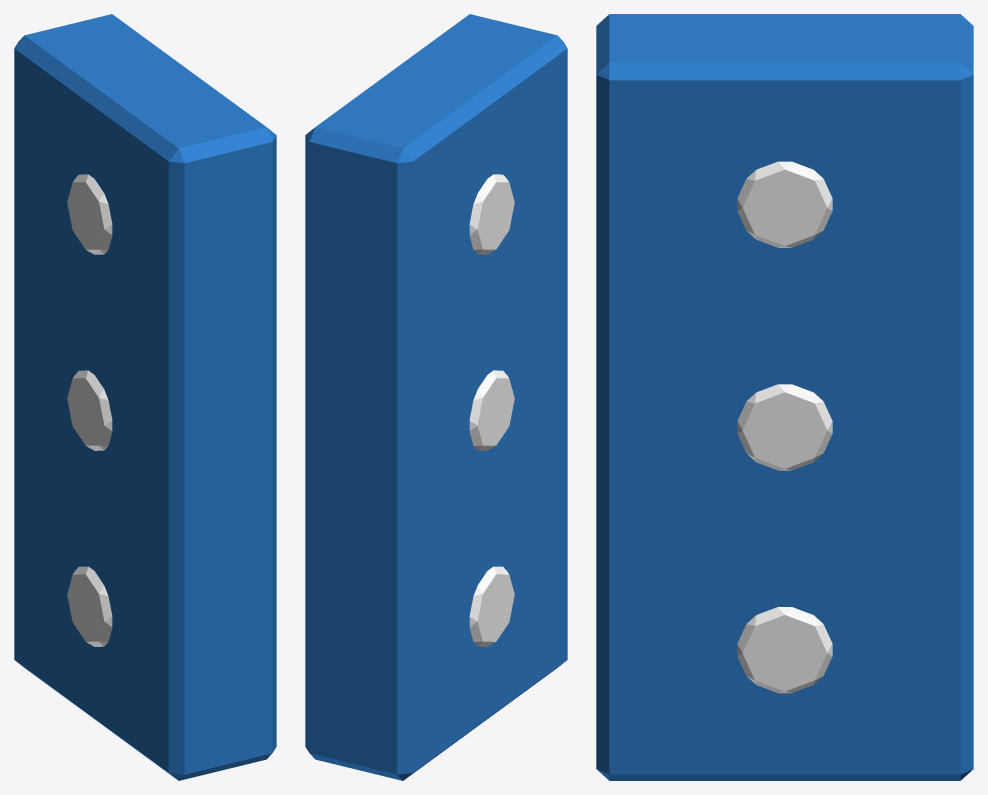
Rendered from domino_blue.glb.
3 views of the same model, side by side, from view 1: azimuth 30°, elevation 25°; view 2: azimuth 150°, elevation 25°; view 3: azimuth 270°, elevation 25° (orthographic). The views are drawn at different scales.
Visible parts, largest first — view 1: domino_blue; view 2: domino_blue; view 3: domino_blue.
Boxes of the visible parts, box(x1,y1,x2,y2) form: domino_blue: box(14, 14, 276, 780); domino_blue: box(305, 14, 567, 780); domino_blue: box(596, 14, 973, 780).
Bounding box in the file's own units: 0.083 × 0.42 × 0.2.
